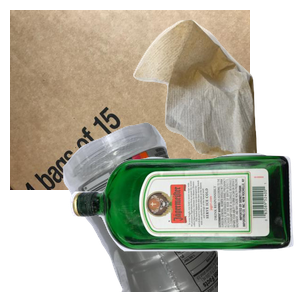cardboard: (10, 10, 250, 190)
glass: (67, 150, 300, 300)
plastic: (60, 120, 300, 300)
trash: (131, 17, 300, 197)
